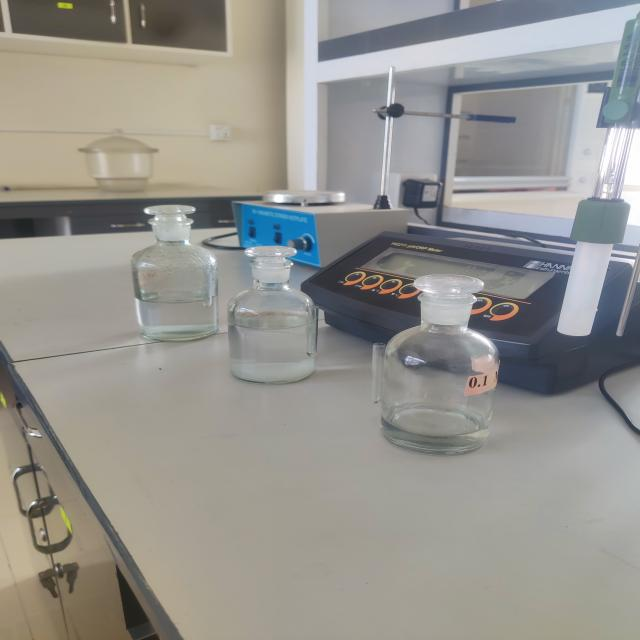Reagent_Bottle: (350, 260, 538, 464), (185, 228, 368, 392), (92, 191, 236, 353)
